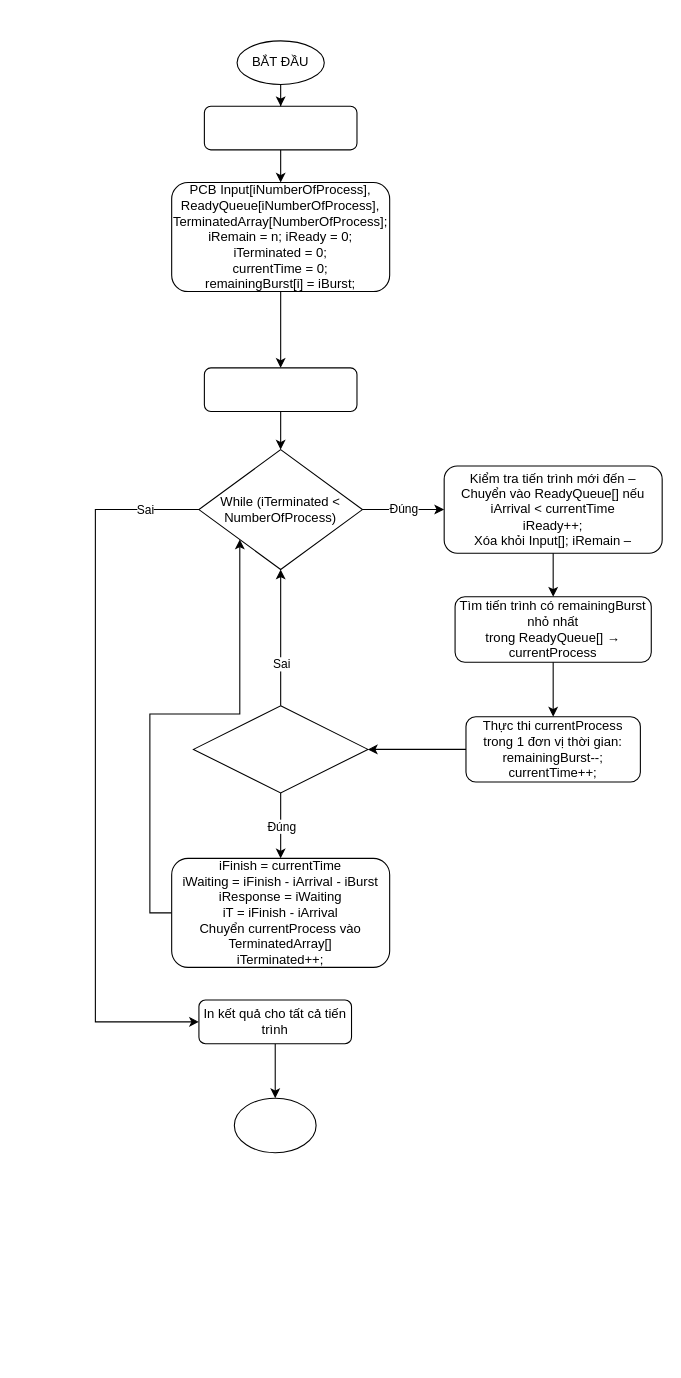
The diagram is 681 pixels wide and 1378 high, and some of its shapes have lost their labels. The box of each missing label's shape, as (x1, y1, x2, y2) in pixels:
KẾT THÚC: (233, 1097, 316, 1153)
Nhập Input[iNumberOfProcess]: (203, 367, 357, 411)
Nhập iNumberOfProcess;: (203, 105, 357, 150)
Nếu remainingBurst == 0: (192, 705, 368, 793)
